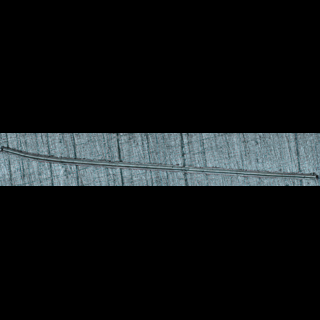d: (0, 143, 319, 181)
